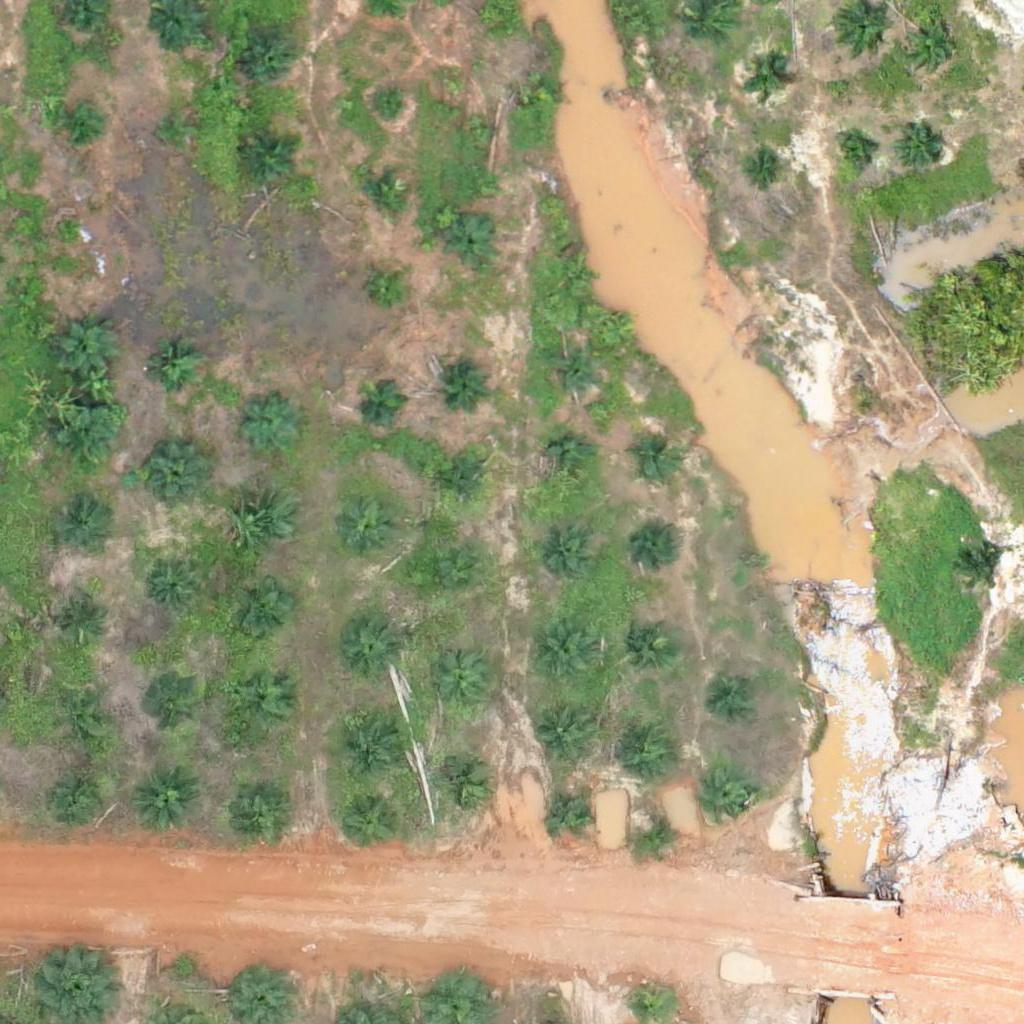Kelapa_Sawit: (418, 549, 481, 612), (533, 525, 596, 588), (141, 342, 204, 405), (145, 442, 208, 505), (132, 769, 195, 832), (531, 622, 594, 685), (228, 667, 291, 730), (226, 774, 289, 837), (142, 674, 205, 737), (338, 791, 401, 854), (618, 718, 681, 781), (532, 703, 595, 766), (55, 318, 118, 381), (898, 14, 961, 77), (229, 581, 291, 644), (340, 496, 402, 559), (239, 394, 301, 457), (342, 713, 404, 776), (54, 687, 116, 750), (339, 617, 401, 680), (428, 655, 490, 718), (433, 753, 495, 816), (618, 613, 680, 676), (57, 407, 119, 470), (235, 494, 297, 557), (49, 769, 111, 831), (247, 32, 297, 83), (246, 135, 296, 186), (545, 788, 595, 839), (631, 809, 681, 860), (357, 167, 407, 218), (54, 507, 104, 557), (62, 600, 112, 650), (145, 563, 195, 613), (634, 524, 684, 574), (441, 355, 491, 405), (359, 380, 409, 430), (548, 350, 598, 400), (447, 219, 497, 269), (544, 435, 594, 485), (630, 434, 680, 484), (702, 775, 752, 825), (712, 670, 762, 720), (955, 544, 1005, 594), (438, 459, 488, 509), (896, 122, 946, 172), (685, 3, 735, 53), (556, 257, 594, 295), (368, 268, 406, 306), (746, 58, 784, 96), (747, 149, 785, 187), (834, 132, 872, 170), (460, 109, 498, 147), (62, 105, 100, 143), (524, 71, 561, 109), (158, 111, 195, 149), (370, 90, 407, 127)
